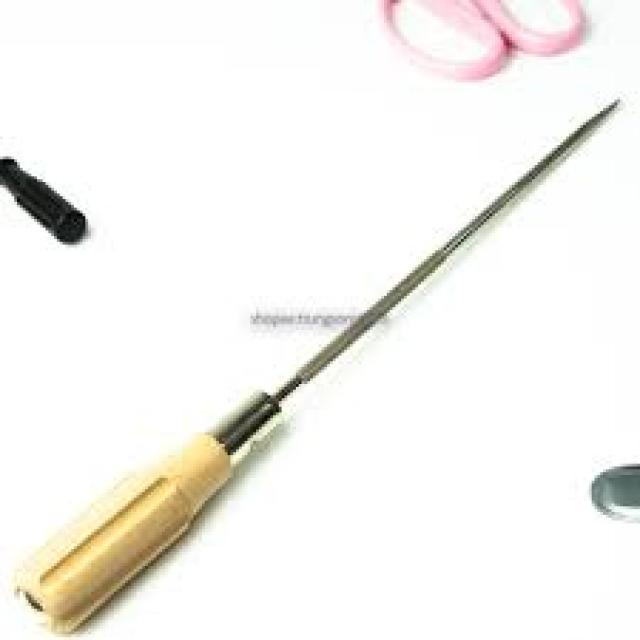screwdriver: (0, 96, 623, 640)
